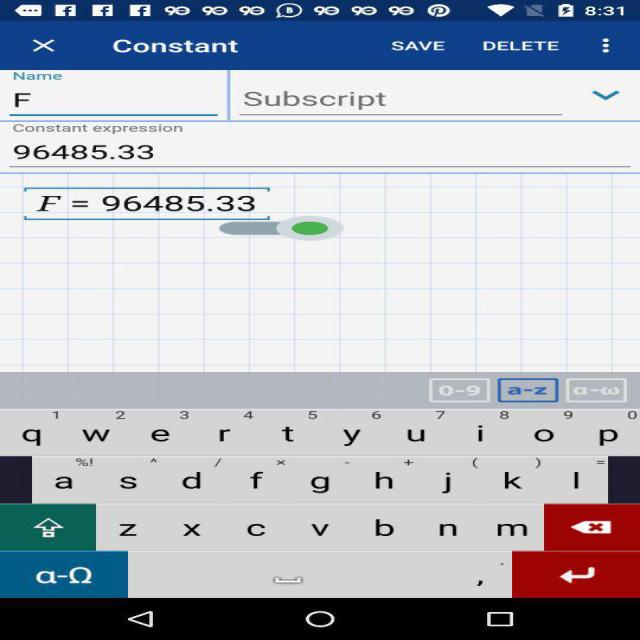social proof: (219, 206, 344, 252)
